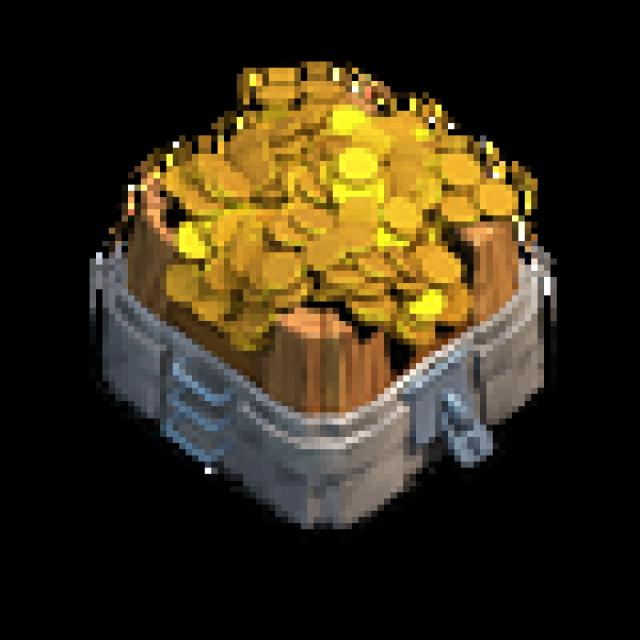gold_storage: (65, 52, 590, 564)
